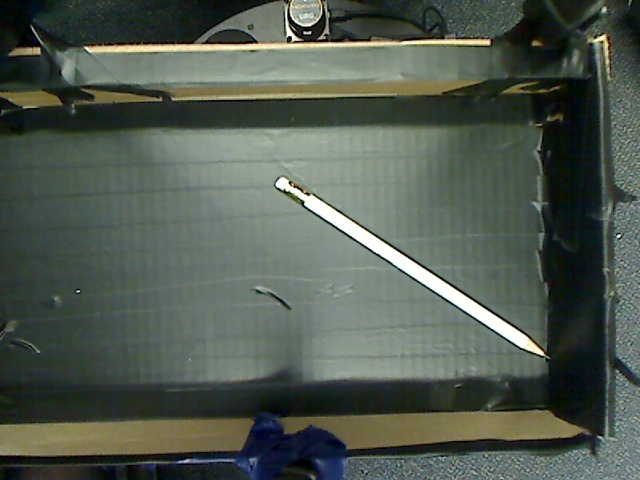pencil: (262, 149, 564, 374)
